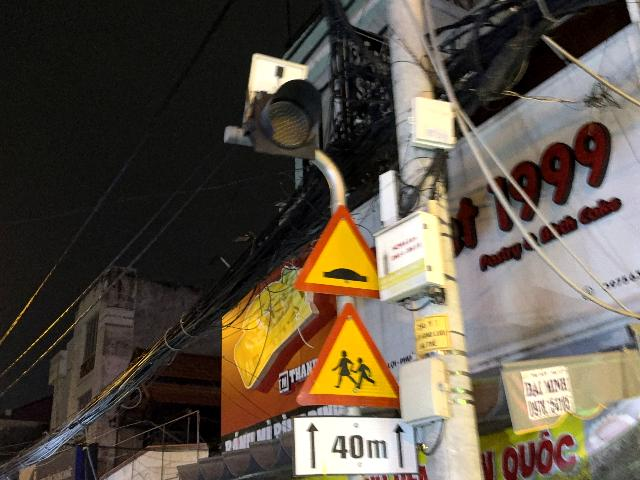duong-co-go-giam-toc: (294, 205, 380, 299)
tre-em-qua-duong: (297, 303, 398, 407)
